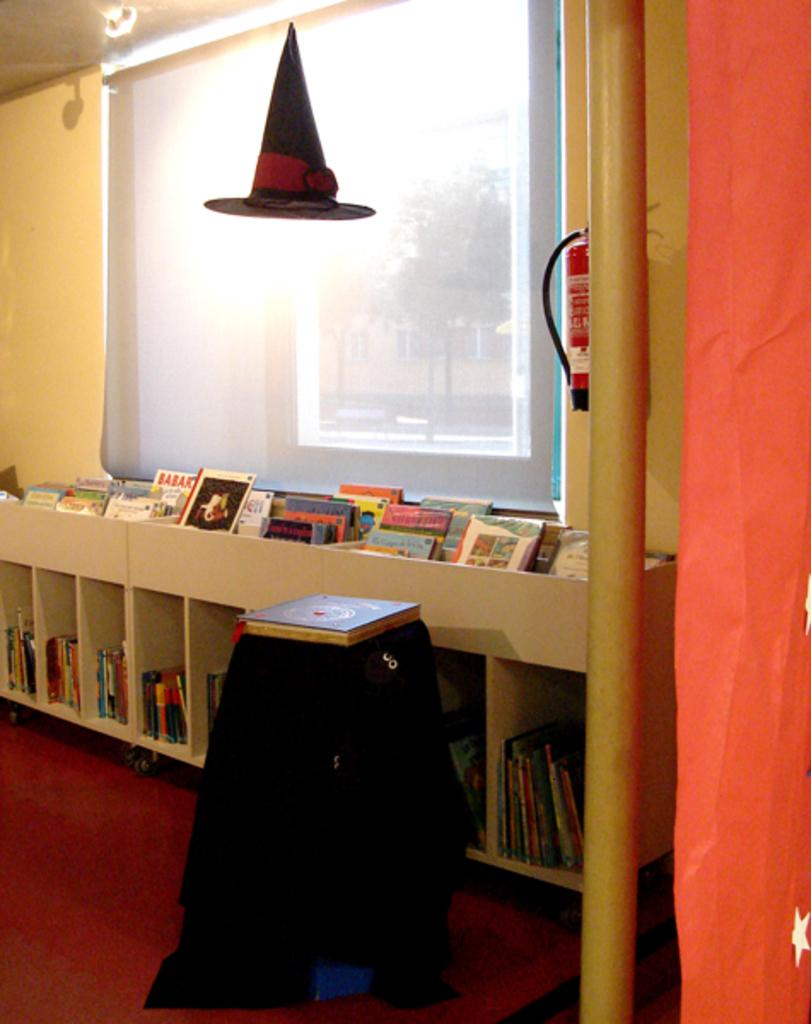Book: (0, 464, 596, 577), (487, 730, 591, 872), (232, 589, 417, 652), (449, 505, 562, 575), (133, 654, 195, 742), (90, 635, 126, 717), (46, 633, 80, 710), (3, 606, 31, 698), (205, 660, 225, 729)
